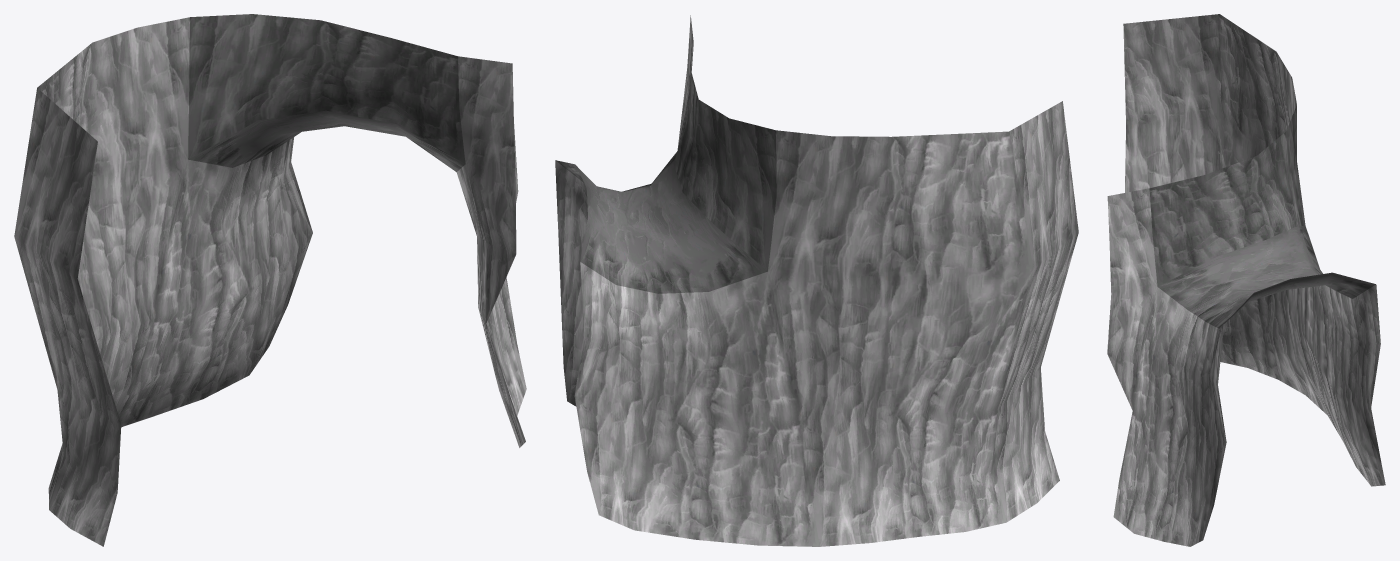
The model's file is SWORDLIGHT20_PS-AREA03_56.fbx.
3 renders of one model, left to right at view 1: azimuth 30°, elevation 25°; view 2: azimuth 150°, elevation 25°; view 3: azimuth 270°, elevation 25°, orthographic. The views are drawn at different scales.
Parts seen in each view (by area): view 1: SWORDLIGHT20_PS-AREA03_56; view 2: SWORDLIGHT20_PS-AREA03_56; view 3: SWORDLIGHT20_PS-AREA03_56.
Part boxes in pixels (bbox=[...]): SWORDLIGHT20_PS-AREA03_56: bbox=[14, 14, 526, 546]; SWORDLIGHT20_PS-AREA03_56: bbox=[555, 15, 1078, 546]; SWORDLIGHT20_PS-AREA03_56: bbox=[1107, 14, 1385, 546].
Size of the model in its own units: 172631 by 141747 by 101173.
Materials: 3 (3 with a texture image).
